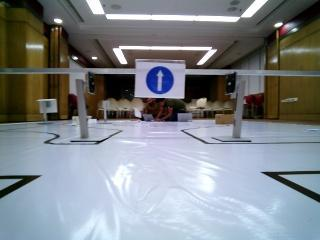straight: (135, 60, 186, 96)
